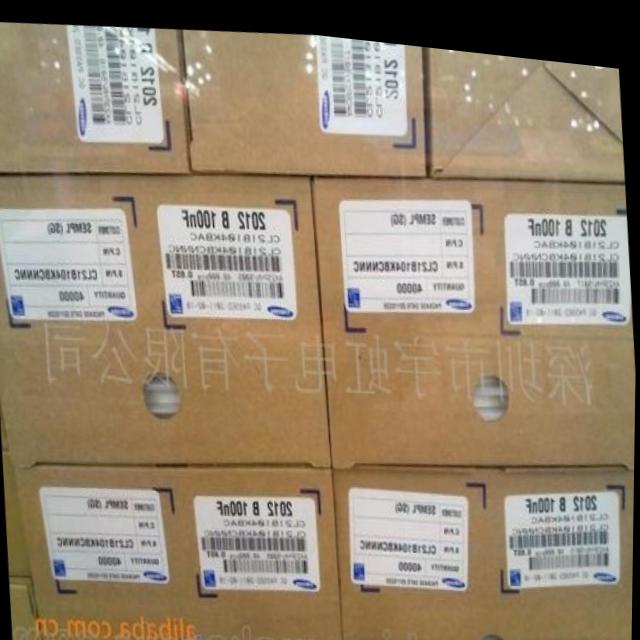box: (0, 169, 333, 467), (312, 169, 636, 462), (13, 457, 345, 640), (333, 450, 635, 640), (181, 25, 427, 169), (0, 22, 195, 172), (421, 37, 625, 169), (3, 451, 33, 575), (10, 574, 44, 640)
